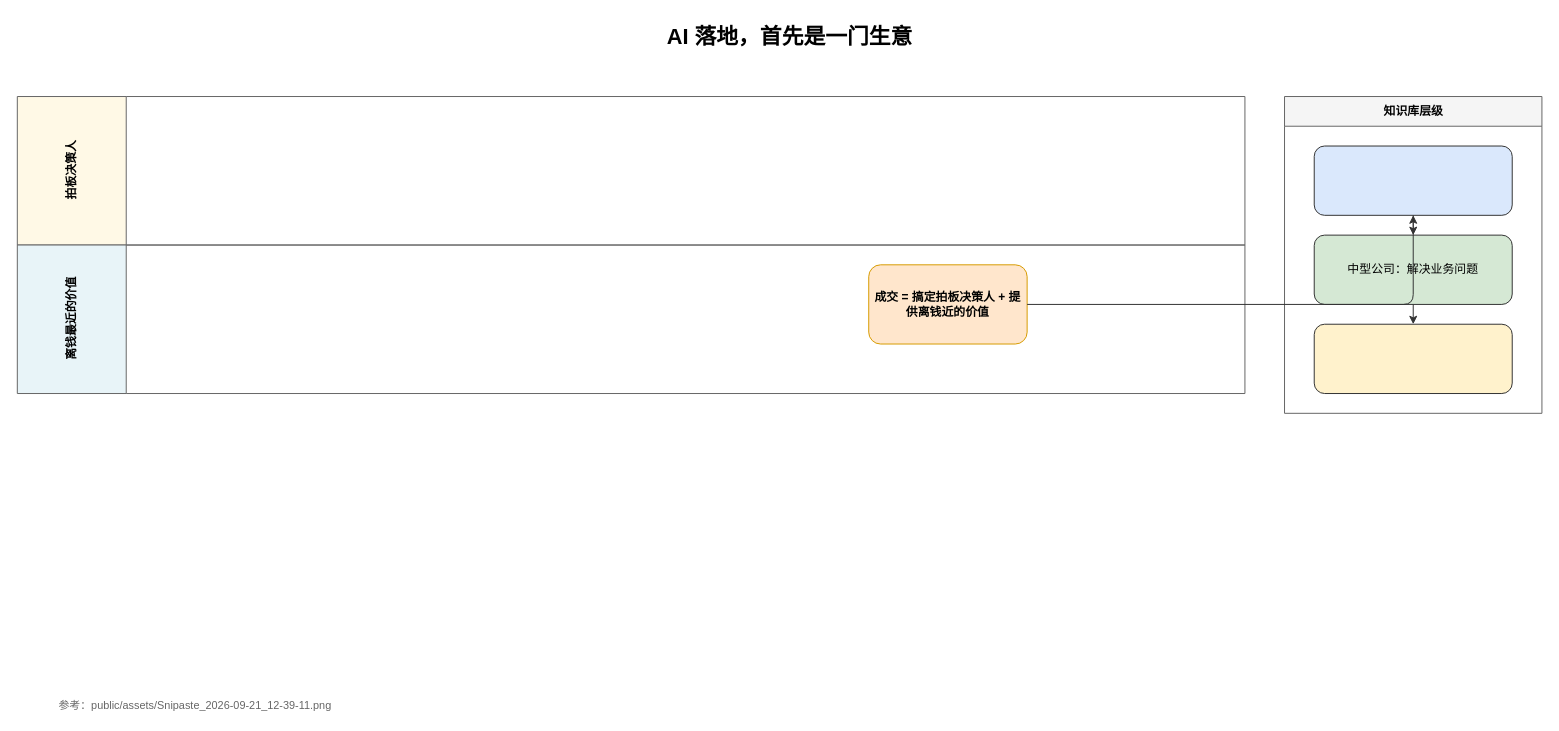
This 1559x731 diagram has some shape labels left out. Each missing label, with the centre of its shape:
"大型集团：解决组织问题" goes at [1412,358].
"小公司：解放老板的时间、精力、注意力和决策能力" goes at [1412,180].
